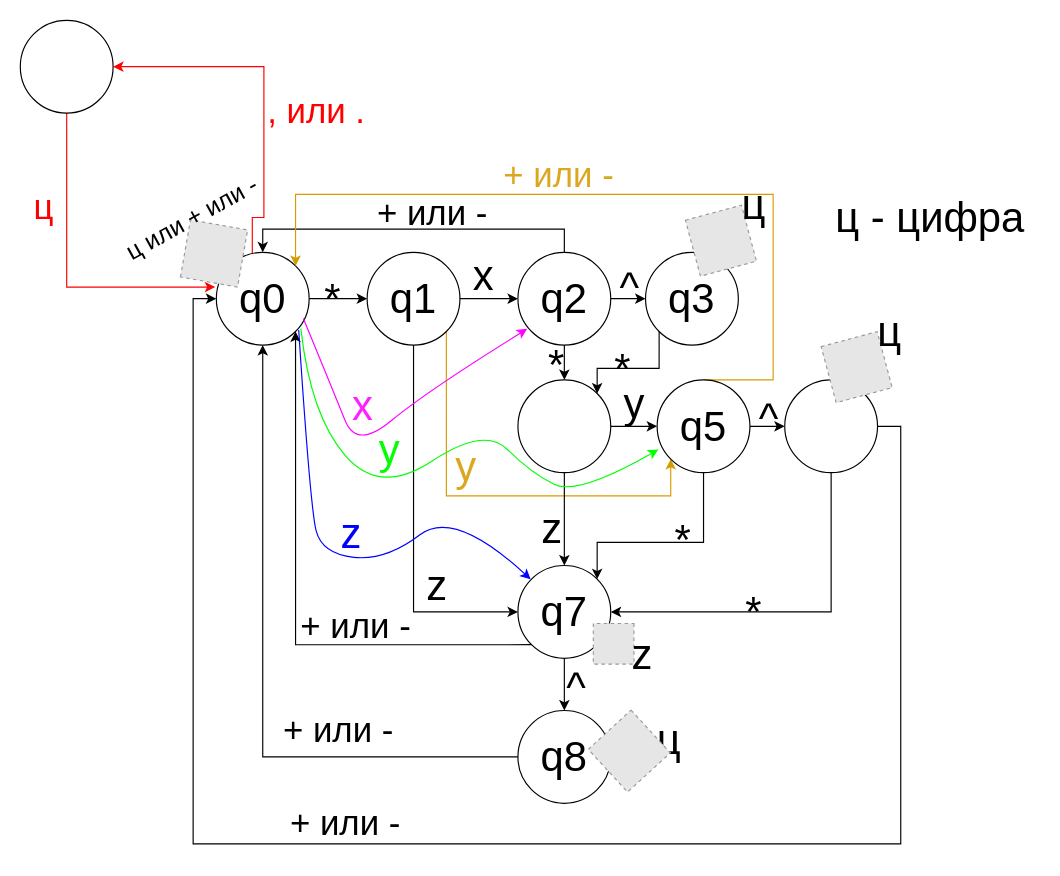
Some shapes in this 1060 by 876 pixel diagram are drawn without their labels. Grey dashed boxes stand in for pictures. The shapes that lost their labels are listed below. From the top down, each one's centre as x and y in pixels, then its label:
At (x=66, y=66): "q9".
At (x=564, y=426): "q4".
At (x=831, y=426): "q6".
